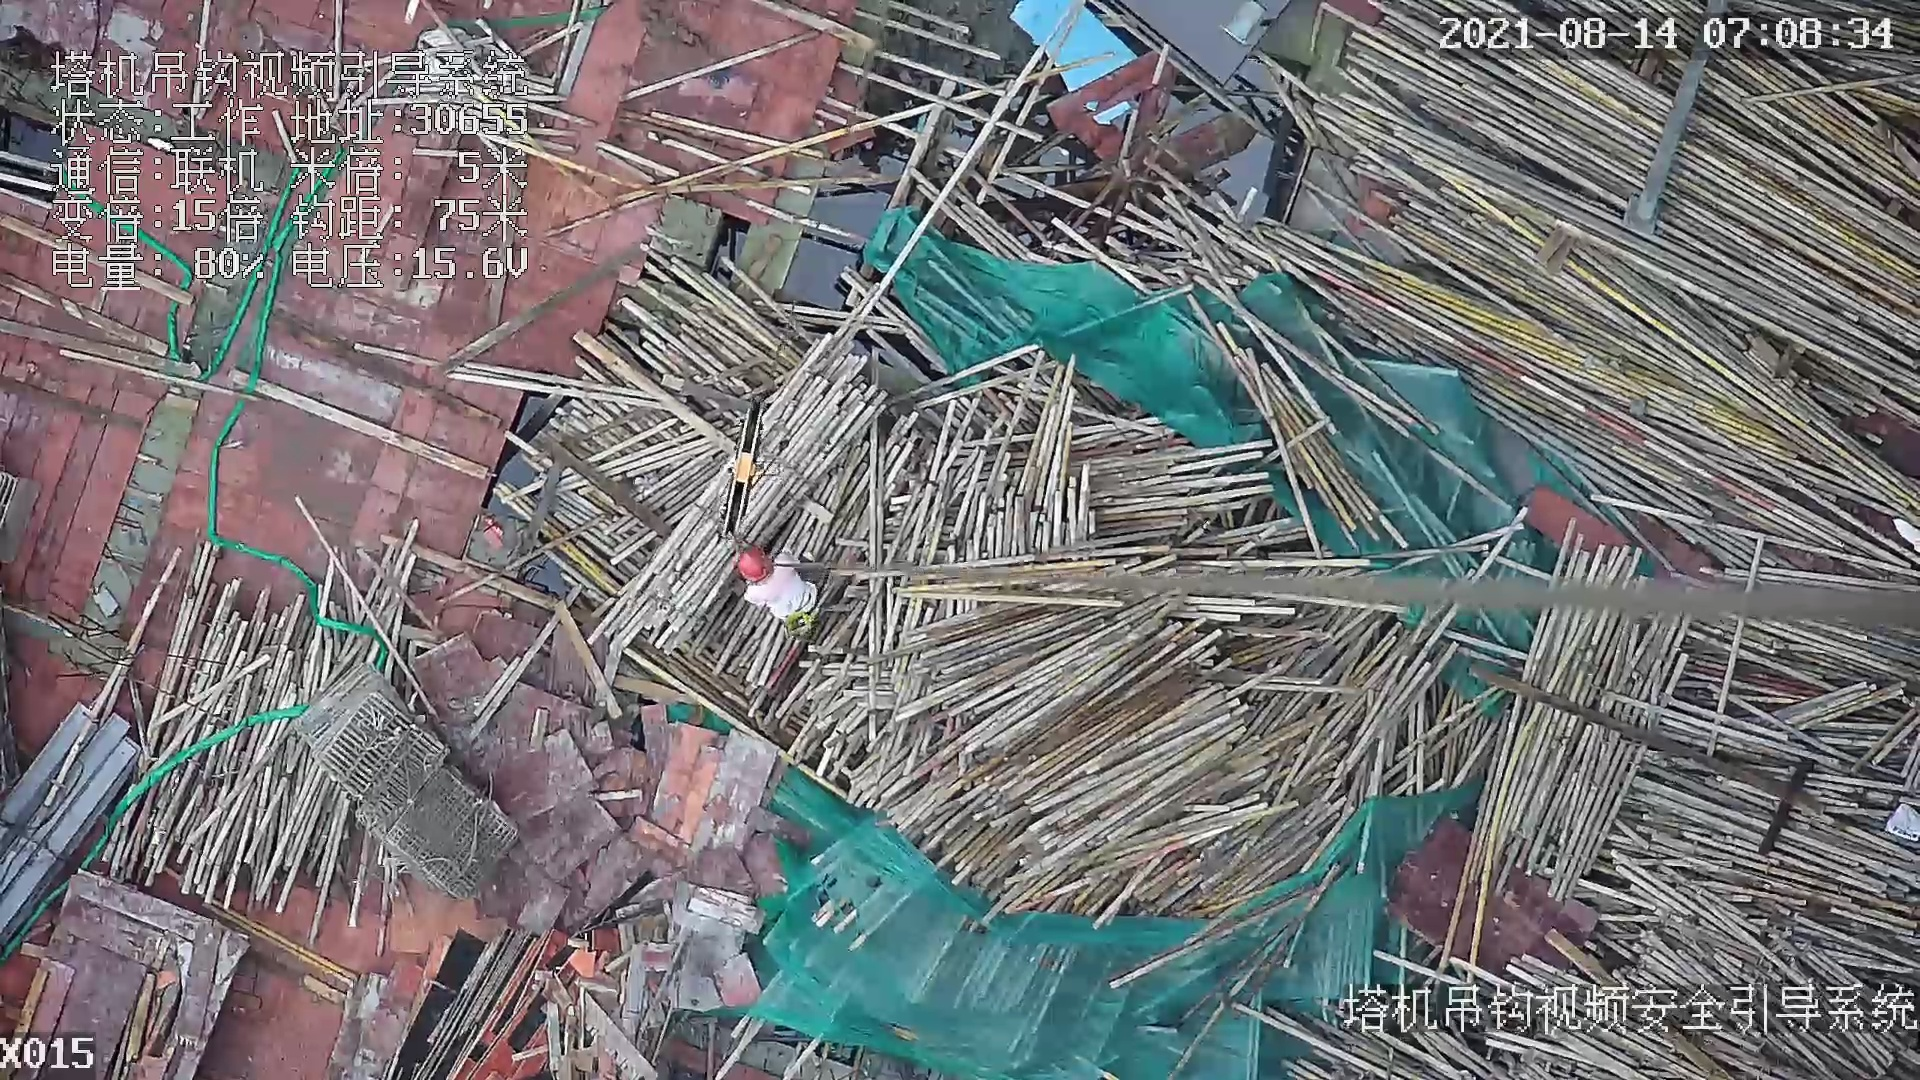helmet: (736, 548, 773, 583)
hook: (720, 392, 769, 541)
person: (735, 537, 822, 626)
